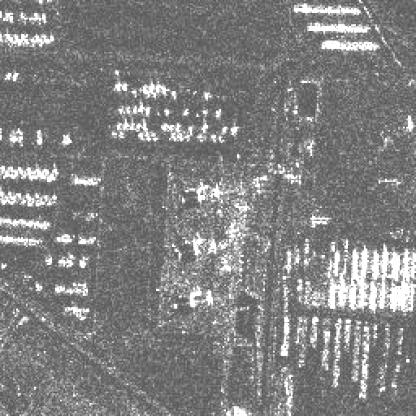airplane: (8, 133, 18, 143), (64, 133, 72, 145), (12, 72, 20, 82), (34, 135, 42, 145), (3, 72, 12, 80), (112, 83, 120, 91), (200, 122, 208, 130), (210, 132, 218, 140), (229, 124, 237, 132), (143, 104, 149, 114), (128, 120, 134, 130), (176, 132, 182, 142), (115, 106, 122, 114), (196, 133, 204, 140), (219, 124, 226, 132), (18, 132, 23, 143), (182, 107, 188, 116), (167, 124, 176, 130), (120, 81, 125, 91), (185, 125, 192, 132), (137, 104, 143, 112), (213, 109, 219, 117), (122, 120, 128, 128), (137, 132, 143, 140), (145, 132, 151, 140), (169, 132, 175, 140), (218, 134, 224, 142), (163, 107, 169, 114), (119, 130, 124, 138), (151, 132, 156, 140), (174, 122, 179, 130), (184, 132, 188, 142), (111, 132, 117, 138), (161, 124, 167, 130), (142, 122, 146, 130), (135, 122, 140, 128), (124, 106, 130, 110), (132, 104, 136, 110), (116, 122, 120, 128)
